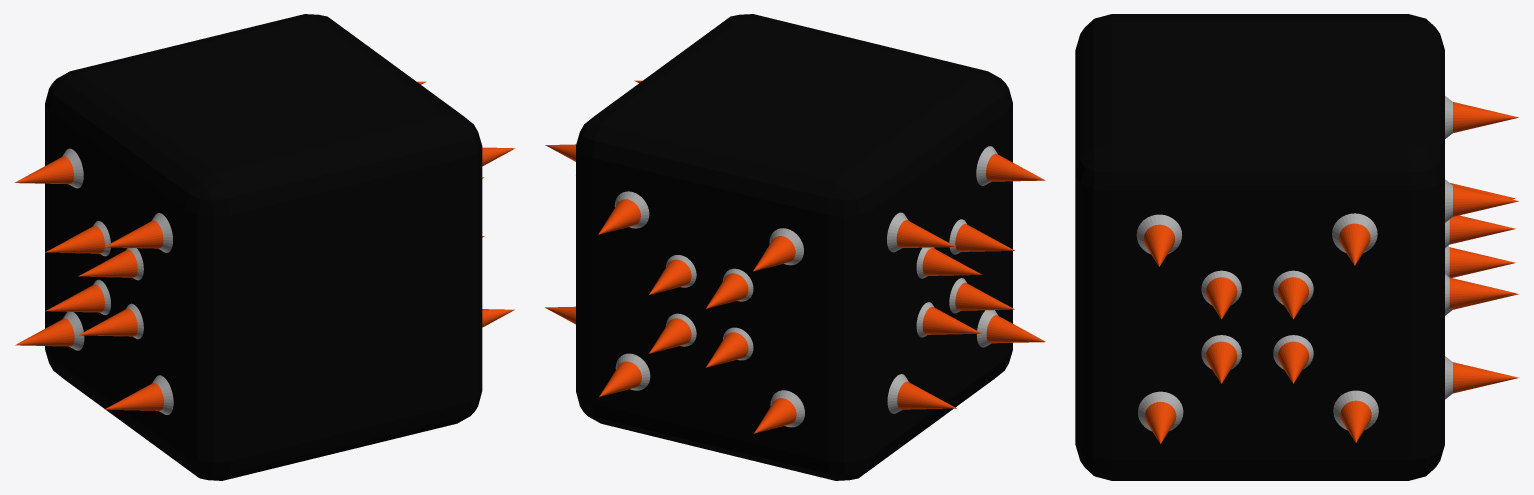
File: dikenorta.fbx
3 renders of one model, left to right at view 1: azimuth 30°, elevation 25°; view 2: azimuth 150°, elevation 25°; view 3: azimuth 270°, elevation 25°, orthographic. The views are drawn at different scales.
Parts seen in each view (by area): view 1: Cube.003, Circle.081, Circle.080, Circle.078, Circle.079, Circle.077, Circle.076, Circle.074, Circle.075; view 2: Cube.003, Circle.078, Circle.079, Circle.080, Circle.081, Circle.083, Circle.084, Circle.082, Circle.085, Circle.077, Circle.076, Circle.075 (+5 smaller); view 3: Cube.003, Circle.090, Circle.091, Circle.093, Circle.092, Circle.084, Circle.083, Circle.085, Circle.095, Circle.097, Circle.096, Circle.094 (+3 smaller).
Part boxes in pixels (x1,y1,x2,y2): Cube.003: (45,14,482,480); Circle.081: (104,375,173,414); Circle.080: (14,148,83,188); Circle.078: (104,213,172,252); Circle.079: (15,312,84,350); Circle.077: (45,279,110,315); Circle.076: (78,303,143,339); Circle.074: (45,221,110,256); Circle.075: (78,248,143,280); Cube.003: (576,14,1012,480); Circle.078: (976,146,1045,185); Circle.079: (887,374,956,413); Circle.080: (887,212,955,252); Circle.081: (977,310,1045,347); Circle.083: (598,191,649,234); Circle.084: (599,353,650,396); Circle.082: (754,390,804,433); Circle.085: (753,228,803,271); Circle.077: (916,302,981,337); Circle.076: (949,278,1014,313); Circle.075: (949,219,1014,254); Cube.003: (1075,14,1444,480); Circle.090: (1333,390,1378,442); Circle.091: (1136,214,1182,266); Circle.093: (1332,213,1377,265); Circle.092: (1138,391,1183,443); Circle.084: (1445,356,1519,399); Circle.083: (1445,179,1518,222); Circle.085: (1445,96,1518,138); Circle.095: (1273,335,1313,383); Circle.097: (1201,270,1241,319); Circle.096: (1273,270,1313,319); Circle.094: (1201,335,1241,383).
Size of the model in its own units: 54.35 by 38.6 by 46.38.
